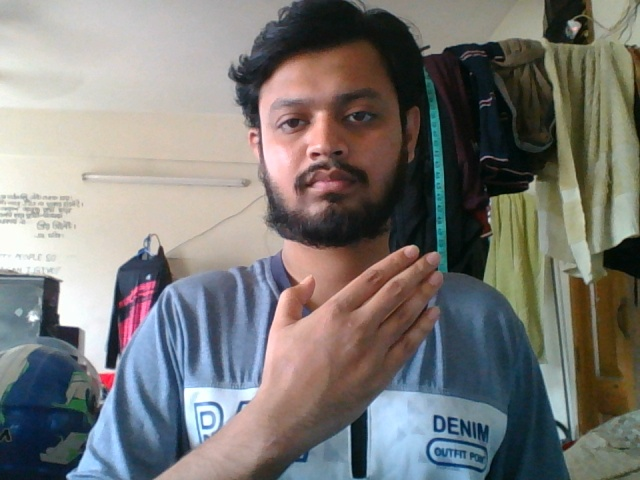ami: (230, 244, 448, 453)
